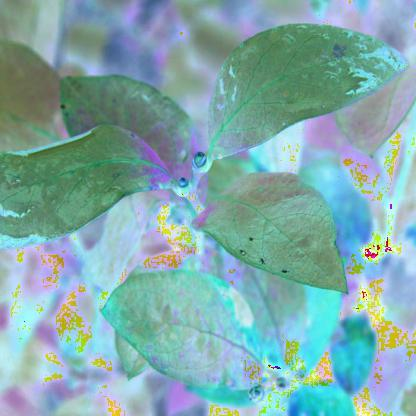Blueberry leaf: (206, 17, 416, 163), (0, 119, 182, 250), (98, 260, 270, 392), (190, 168, 358, 298)
